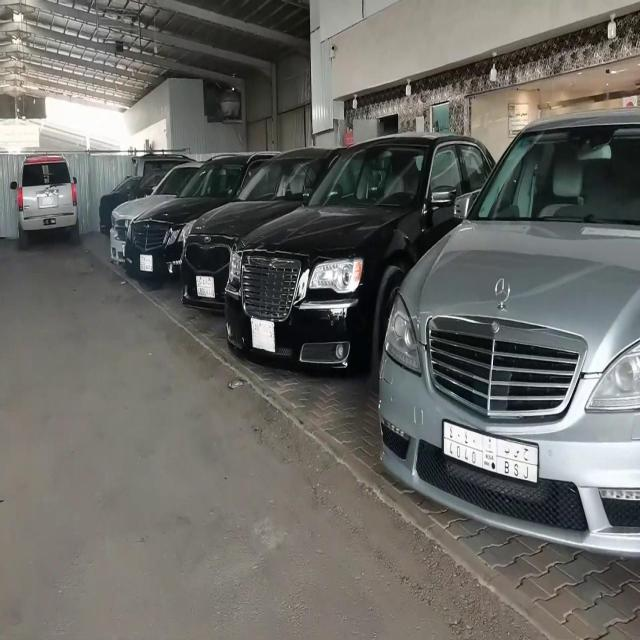license_plate: (438, 414, 539, 490), (137, 248, 153, 273), (328, 300, 348, 320), (36, 190, 54, 209), (40, 212, 61, 228)
